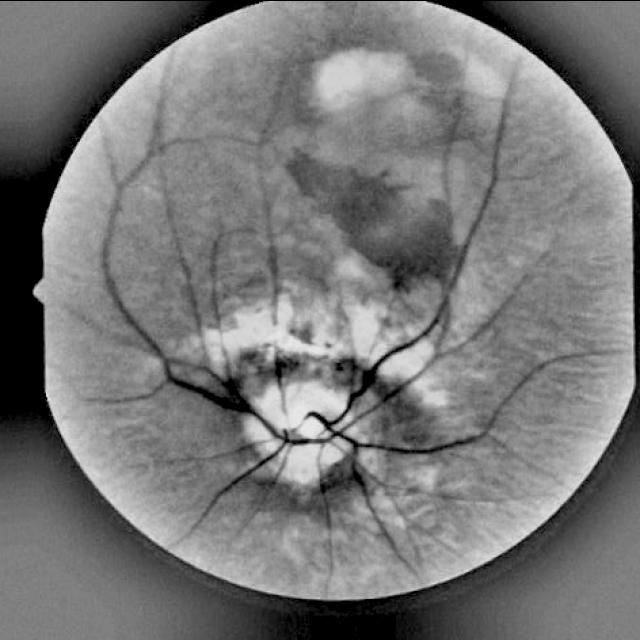Nerves: (99, 91, 552, 530)
Optic Disk: (241, 366, 359, 487)
